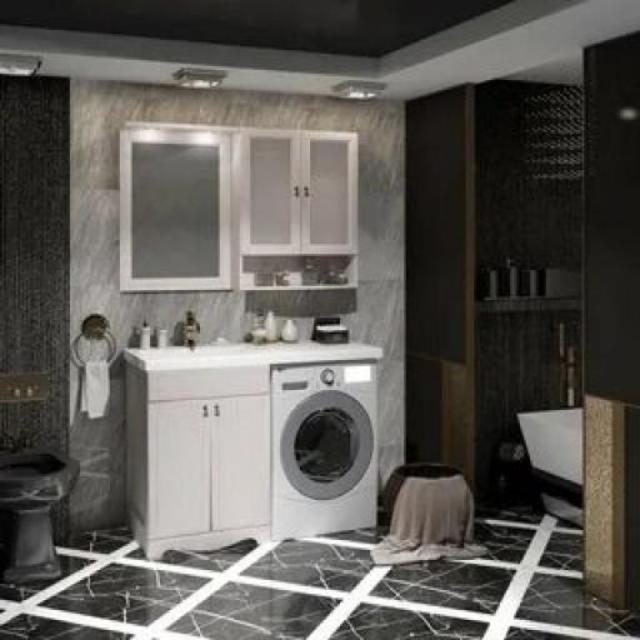Washing-Machine: (272, 368, 380, 526)
